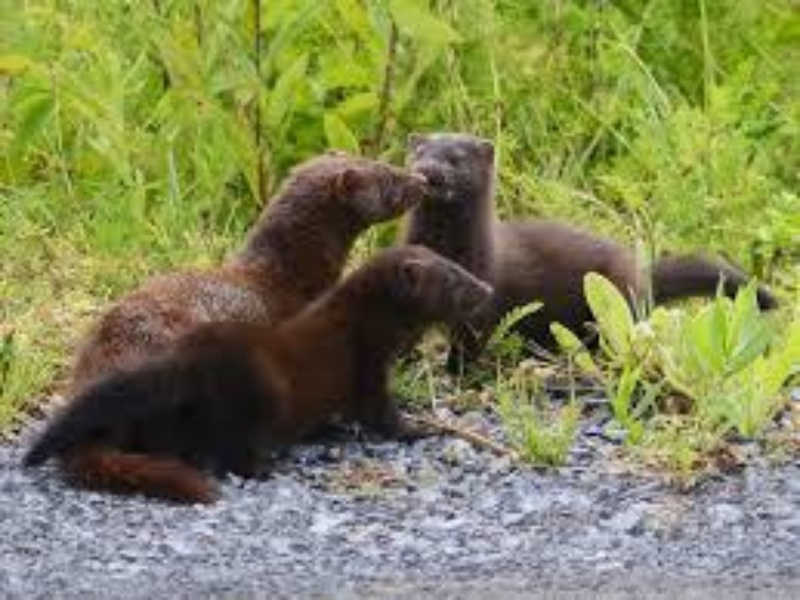minkish: (24, 235, 497, 504), (402, 133, 780, 385), (68, 149, 430, 399)
